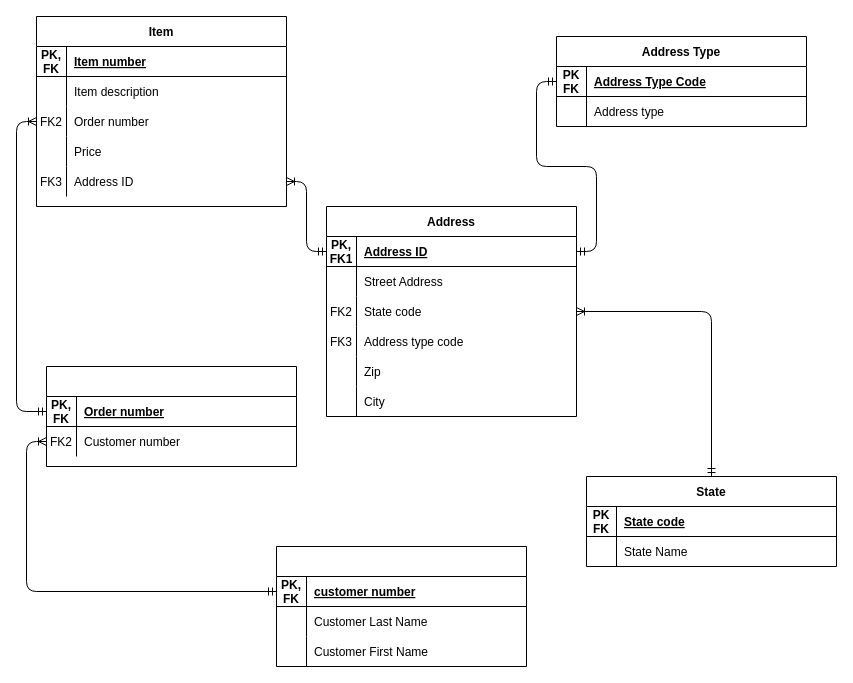
Image size: 853x683. Some labels were removed from this diagram. Each missing label, with the box of its shape:
Customers: (276, 546, 526, 666)
Orders: (46, 366, 296, 466)
